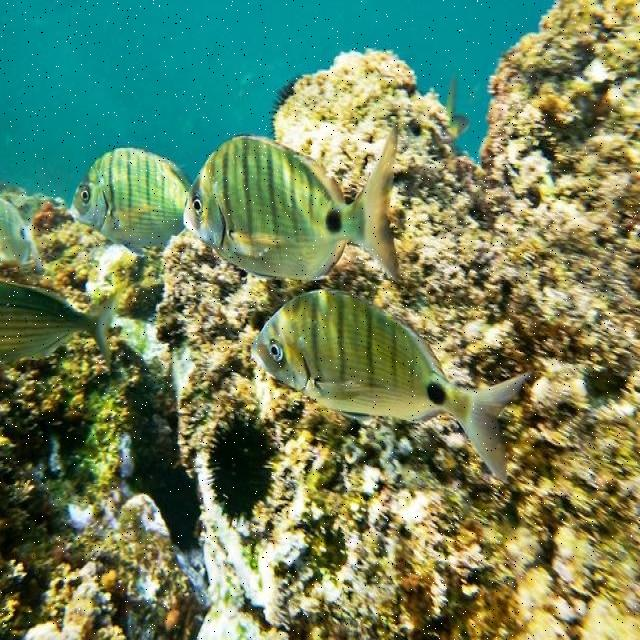fish: (249, 289, 533, 481), (71, 120, 400, 284), (0, 281, 118, 373), (0, 199, 42, 275)
reefs: (0, 2, 639, 640), (203, 411, 280, 529)
